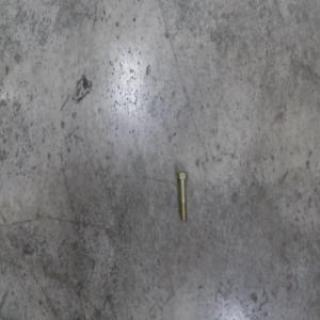Bolttrack_idkeyframe: (175, 168, 187, 220)
